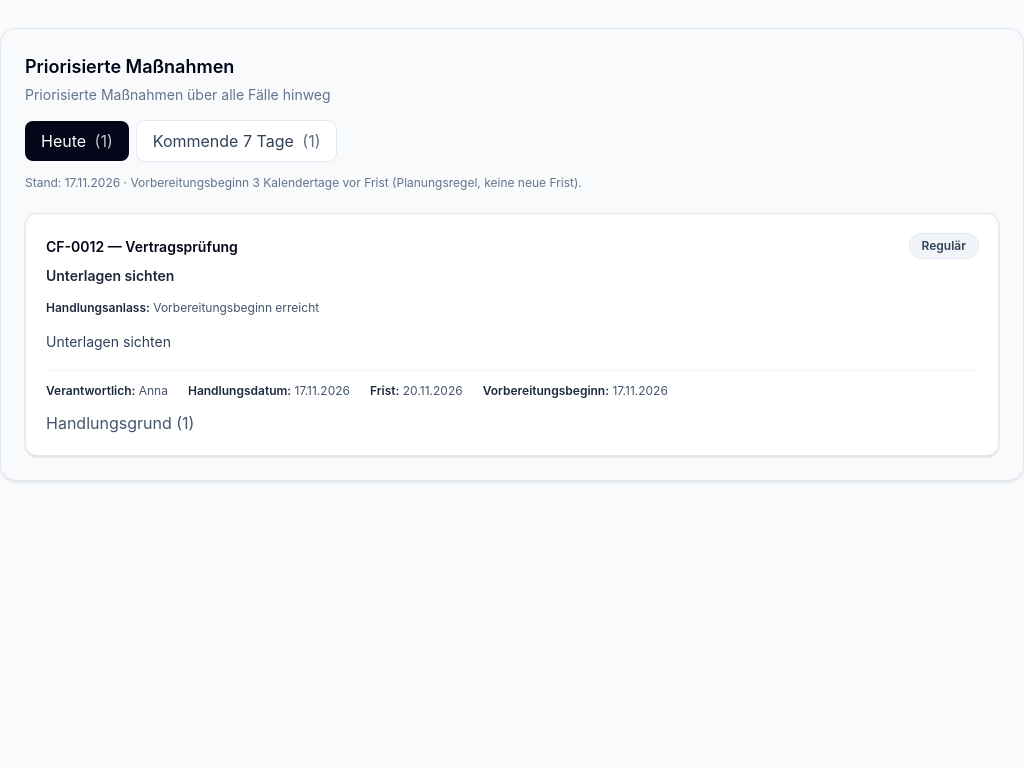
dashboard worklist › switches to next seven days and back without another request
Expected: the link "CF-0012 — Vertragsprüfung" is shown, [46, 238, 238, 255]
Click the button "Kommende 7 Tage (1)". click: [237, 141]
box: [137, 121, 336, 161]
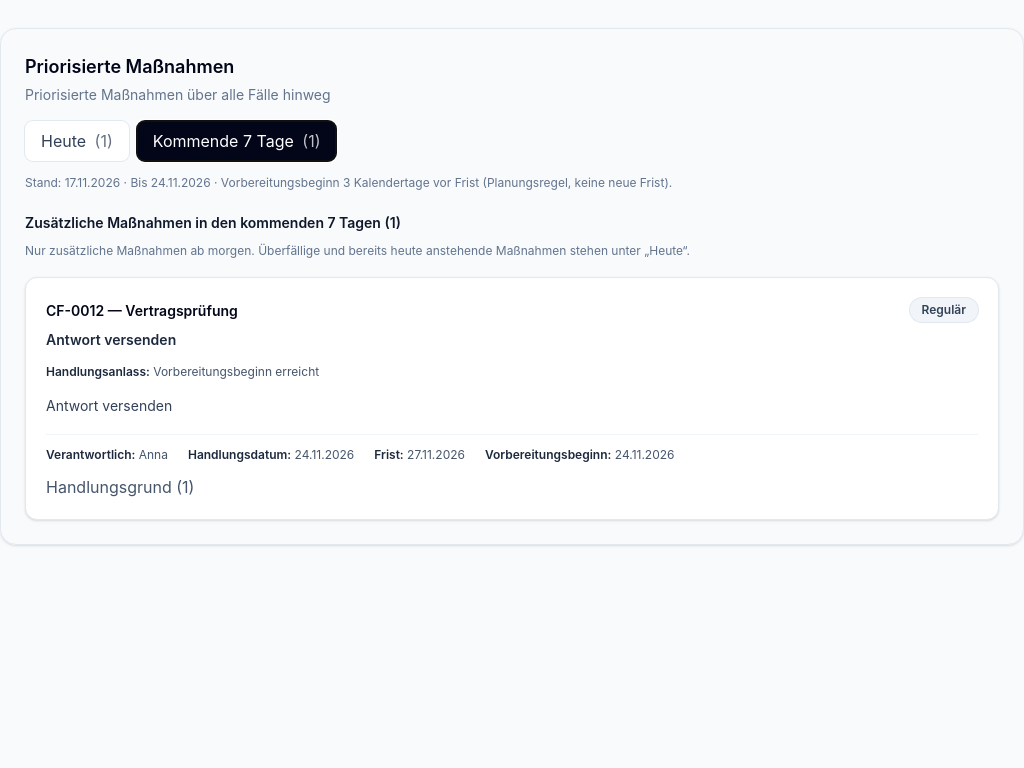
Expected: the number of headings "Antwort versenden" is 2, [46, 331, 176, 348]; [46, 397, 172, 414]
Expected: the button "Kommende 7 Tage (1)" is pressed, [137, 121, 336, 161]
Click the button "Heute (1)". click: [77, 141]
box: [25, 121, 129, 161]
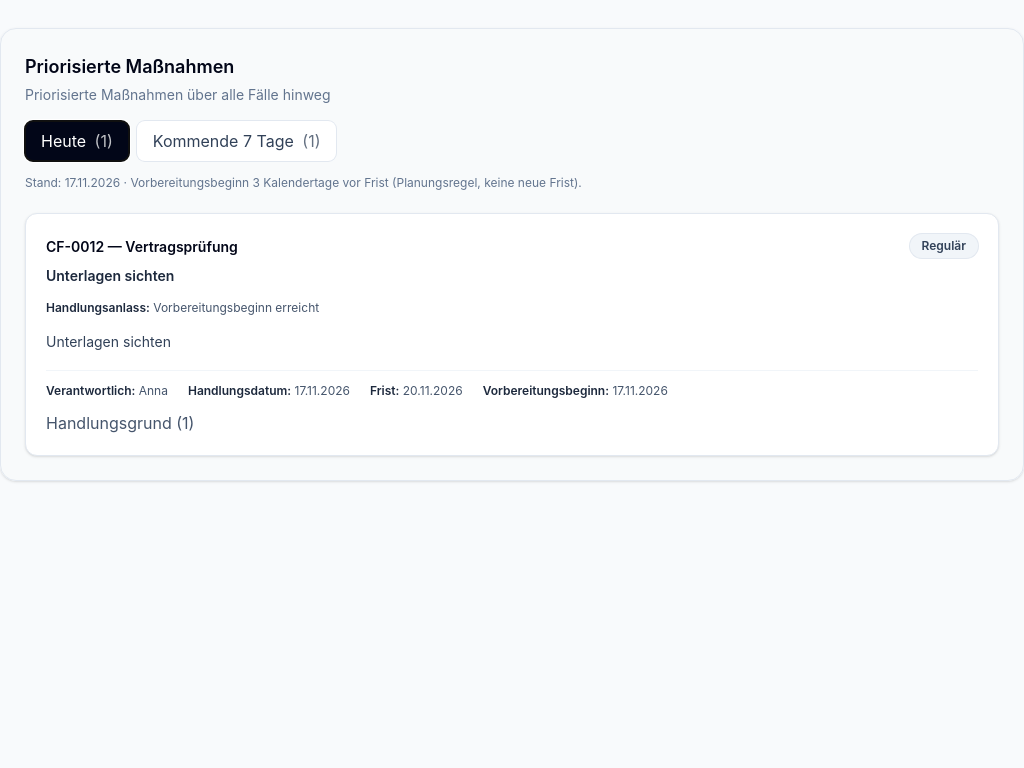
Expected: the heading "Antwort versenden" is gone
